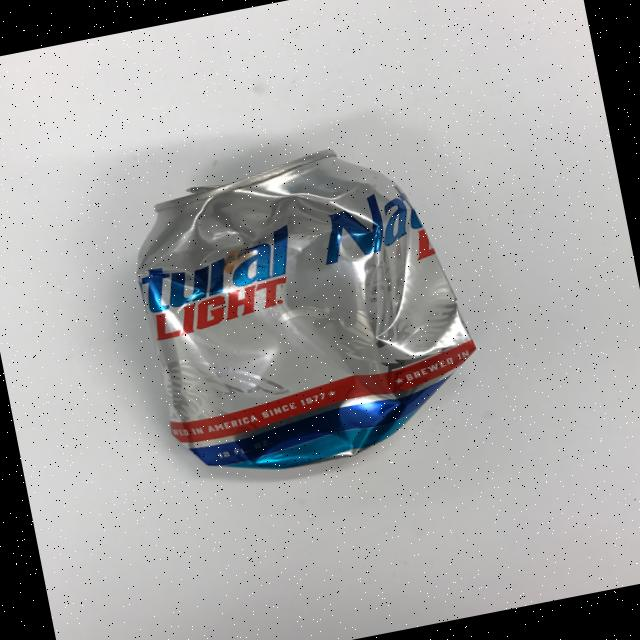metal: (119, 127, 493, 491)
